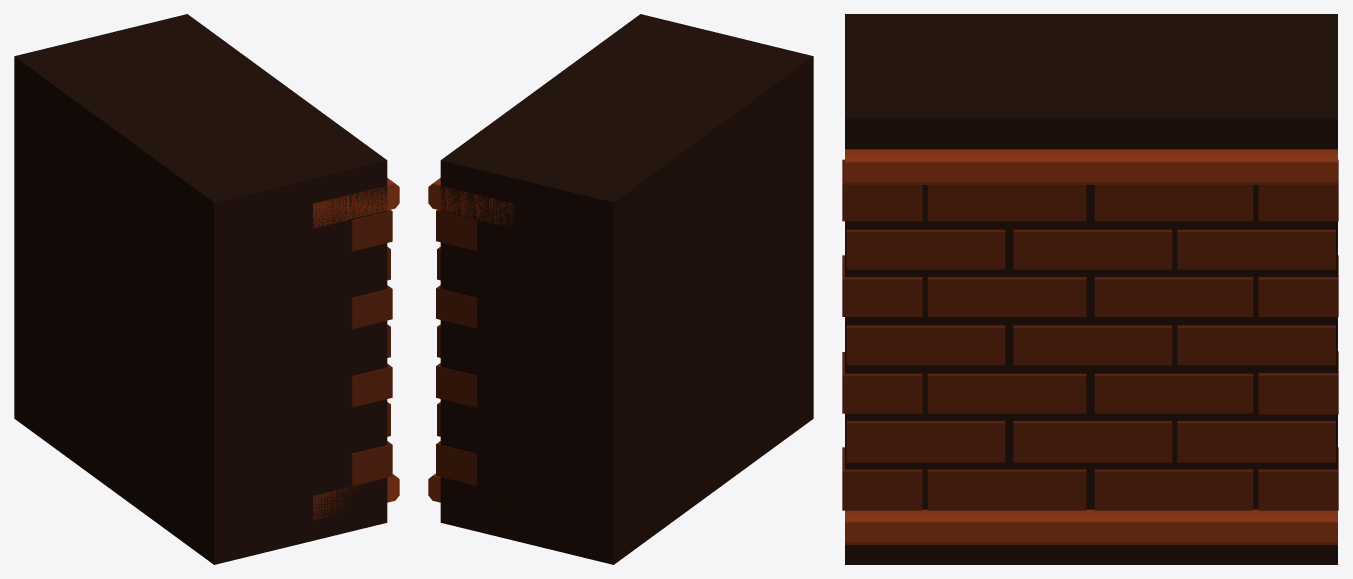
File: walls.fbx
3 views of the same model, side by side, from view 1: azimuth 30°, elevation 25°; view 2: azimuth 150°, elevation 25°; view 3: azimuth 270°, elevation 25° (orthographic). The views are drawn at different scales.
Parts seen in each view (by area): view 1: Box017; view 2: Box017; view 3: Box017.
Boxes of the visible parts, x1,y1,x2,y2 form: Box017: (14, 14, 399, 564); Box017: (428, 14, 813, 564); Box017: (842, 14, 1338, 564).
Bounding box in the file's own units: 84.34 × 157 × 159.
